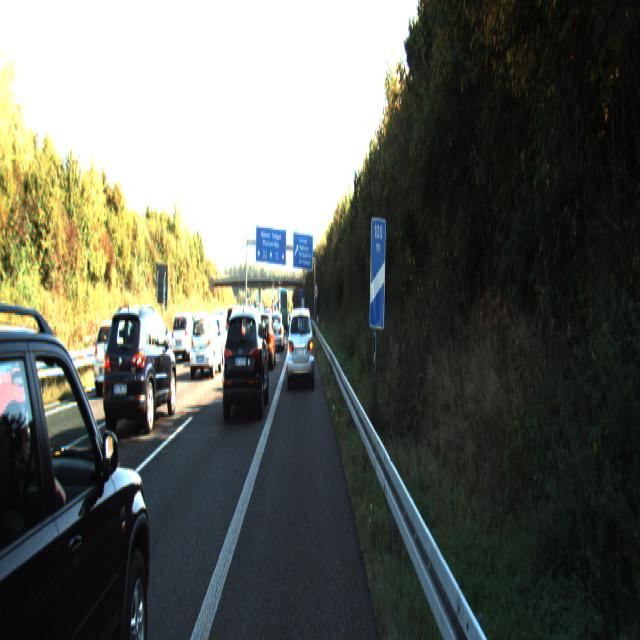Car: (0, 304, 161, 639), (100, 303, 176, 439), (222, 304, 270, 423), (0, 325, 41, 456), (92, 314, 147, 396), (286, 305, 314, 388), (188, 311, 222, 378), (171, 309, 200, 362), (252, 309, 278, 368), (269, 310, 285, 349), (279, 285, 290, 331)
